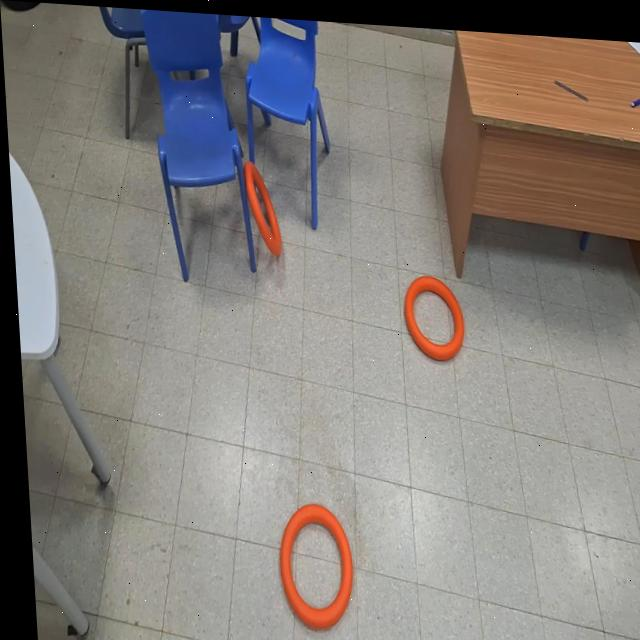note: (270, 498, 349, 628), (399, 269, 463, 357), (240, 157, 280, 253)
